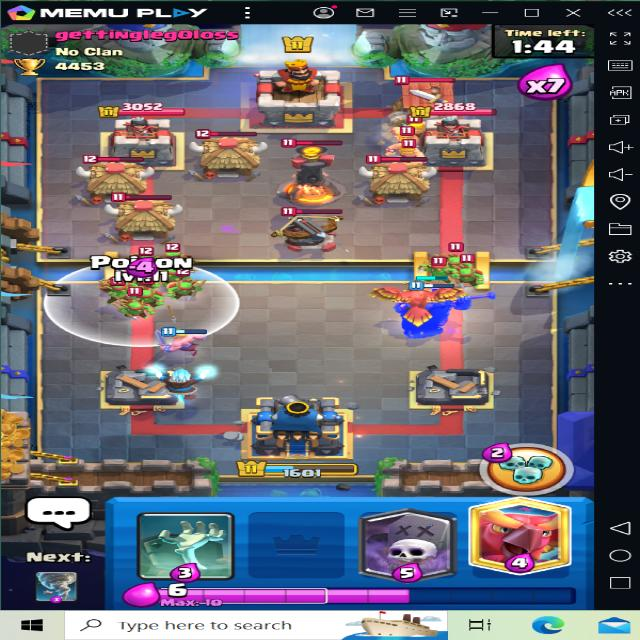barbarian: (381, 139, 428, 162), (387, 122, 426, 143)
barbarian-hut: (386, 73, 464, 124)
goblin-hut: (102, 188, 185, 240), (187, 126, 266, 178), (363, 152, 434, 204), (80, 155, 156, 201)
inferno-tower: (278, 136, 342, 201)
spear-goblin: (427, 296, 464, 332), (115, 299, 153, 321), (102, 278, 136, 302), (438, 244, 468, 269), (164, 278, 198, 300), (457, 252, 483, 280), (132, 288, 170, 306), (420, 268, 448, 291), (162, 242, 190, 262)
x-bow: (269, 200, 348, 251)
